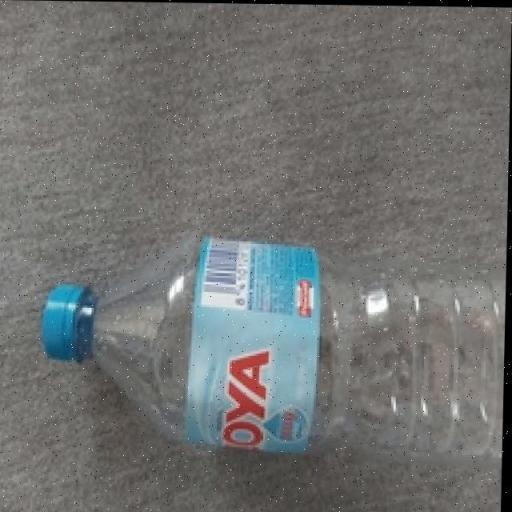plastic: (38, 229, 508, 472)
